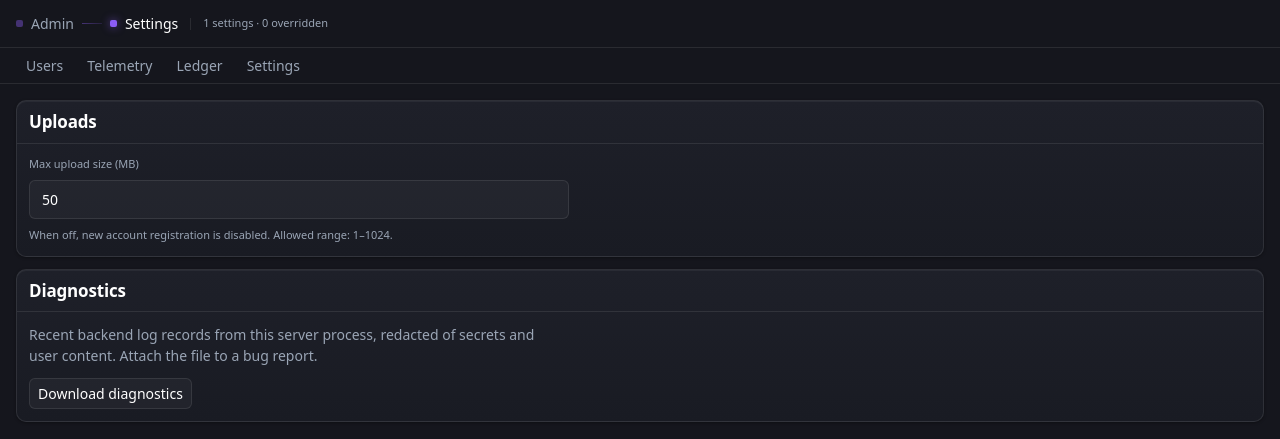
Test case: AdminSettingsPage validation and dirty state › stops treating a field as changed once its original value is typed back
Replace the text in the number field labelled "Max upload size (MB)" with "80": (299, 200) x1=29 y1=180 x2=569 y2=219
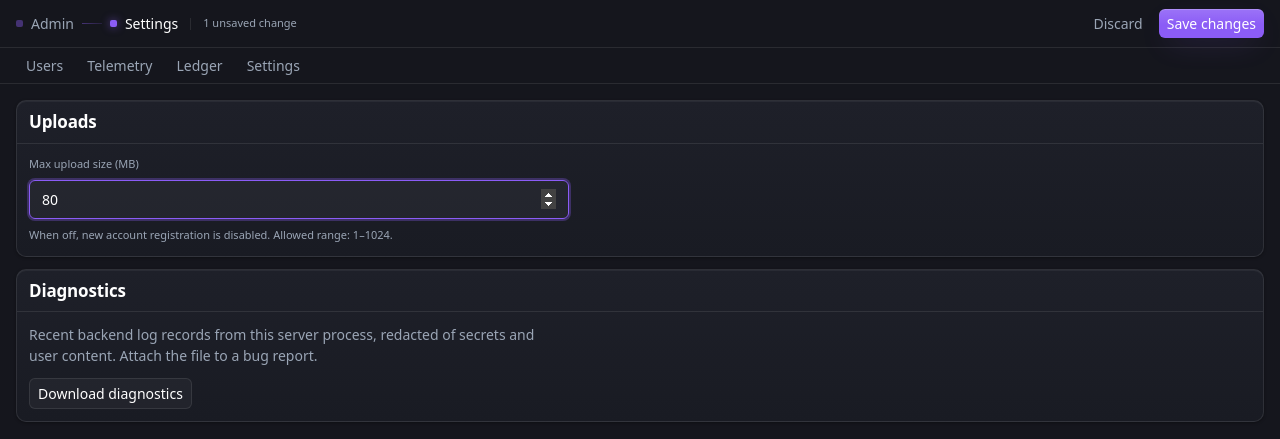
Now the text "1 unsaved change" is shown, box x1=203 y1=15 x2=297 y2=32
Replace the text in the number field labelled "Max upload size (MB)" with "50": (299, 200) x1=29 y1=180 x2=569 y2=219
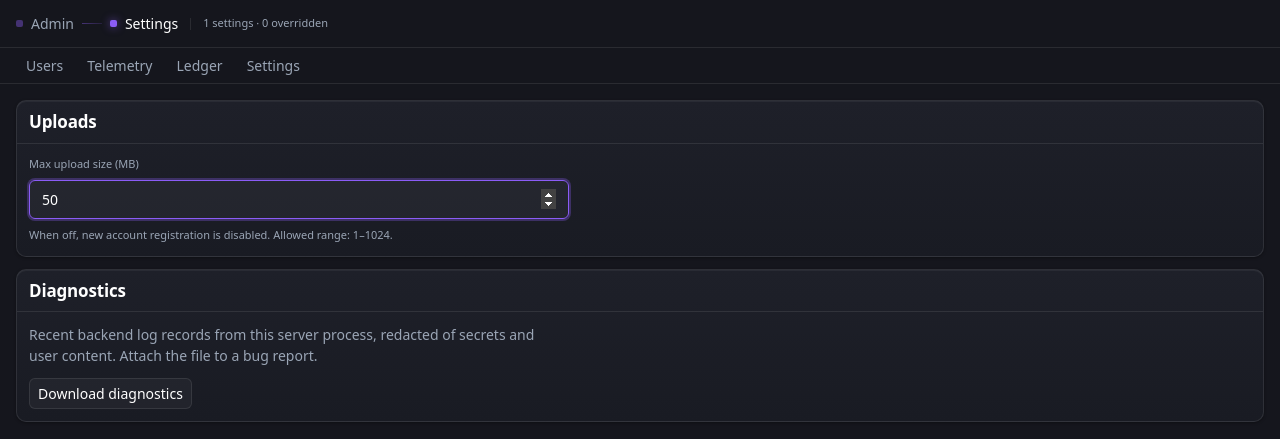
Now the text "unsaved change" is gone
Now the button "Save changes" is gone
